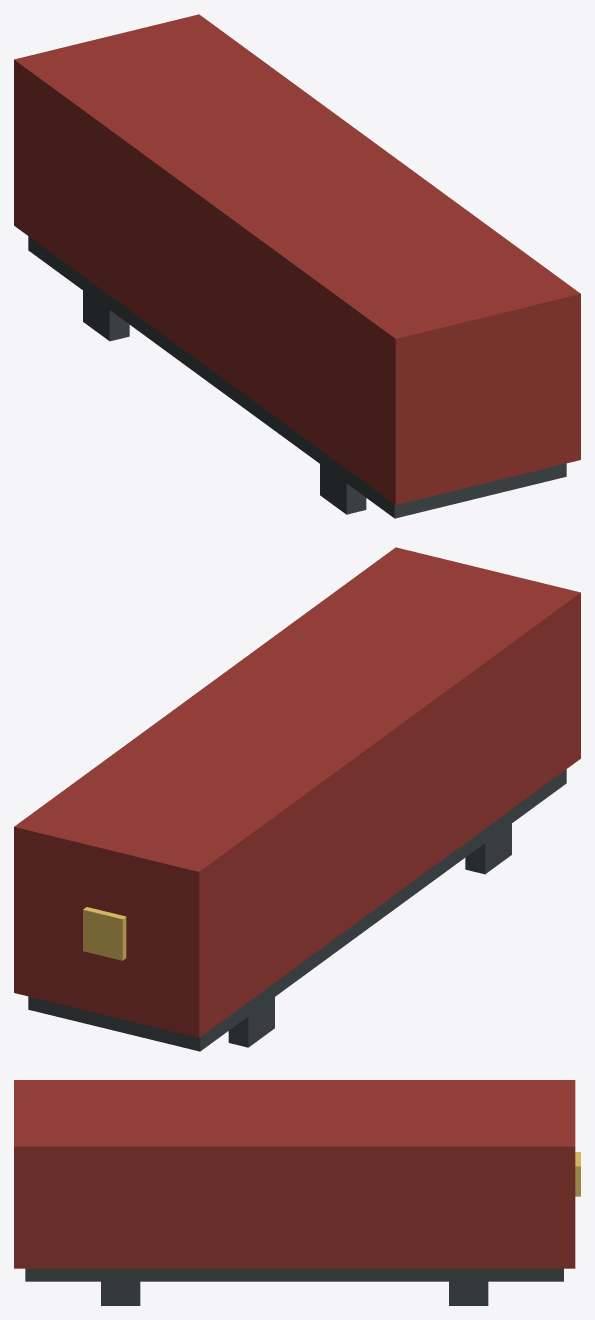
The model's file is wagon_probe_lod0.glb.
3 views of the same model, one above another, from view 1: azimuth 30°, elevation 25°; view 2: azimuth 150°, elevation 25°; view 3: azimuth 270°, elevation 25° (orthographic). The views are drawn at different scales.
Parts seen in each view (by area): view 1: RF_Wagon_Body, RF_Chassis, RF_Wheel_Proxy.002, RF_Wheel_Proxy; view 2: RF_Wagon_Body, RF_Chassis, RF_Forward, RF_Wheel_Proxy, RF_Wheel_Proxy.002; view 3: RF_Wagon_Body, RF_Chassis, RF_Wheel_Proxy.001, RF_Wheel_Proxy.003.
Part boxes in pixels (left/top/right/bottom): RF_Wagon_Body: left=14, top=14, right=580, bottom=504; RF_Chassis: left=28, top=236, right=566, bottom=518; RF_Wheel_Proxy.002: left=83, top=290, right=129, bottom=341; RF_Wheel_Proxy: left=320, top=464, right=366, bottom=514; RF_Wagon_Body: left=14, top=547, right=580, bottom=1037; RF_Chassis: left=28, top=769, right=566, bottom=1051; RF_Forward: left=83, top=907, right=126, bottom=960; RF_Wheel_Proxy: left=465, top=823, right=511, bottom=874; RF_Wheel_Proxy.002: left=228, top=997, right=274, bottom=1047; RF_Wagon_Body: left=14, top=1080, right=575, bottom=1268; RF_Chassis: left=25, top=1268, right=563, bottom=1281; RF_Wheel_Proxy.001: left=101, top=1281, right=140, bottom=1305; RF_Wheel_Proxy.003: left=449, top=1281, right=488, bottom=1305.
Size of the model in its own units: 2.8 by 3.2 by 10.1.
